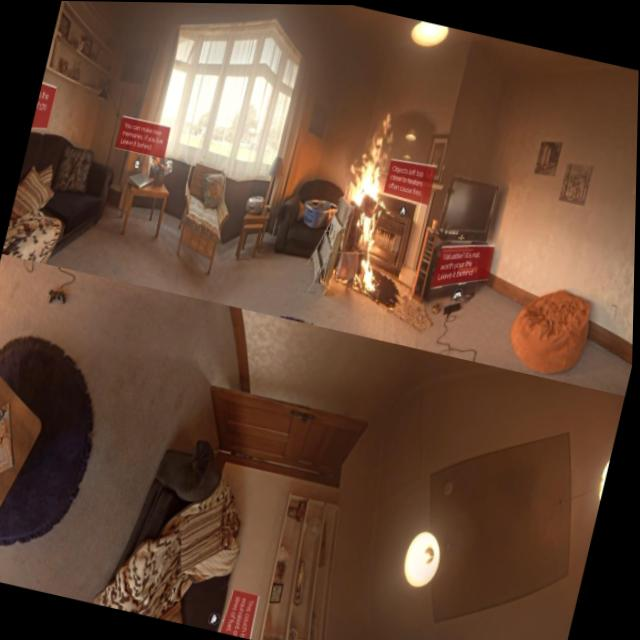fire: (323, 102, 418, 298)
